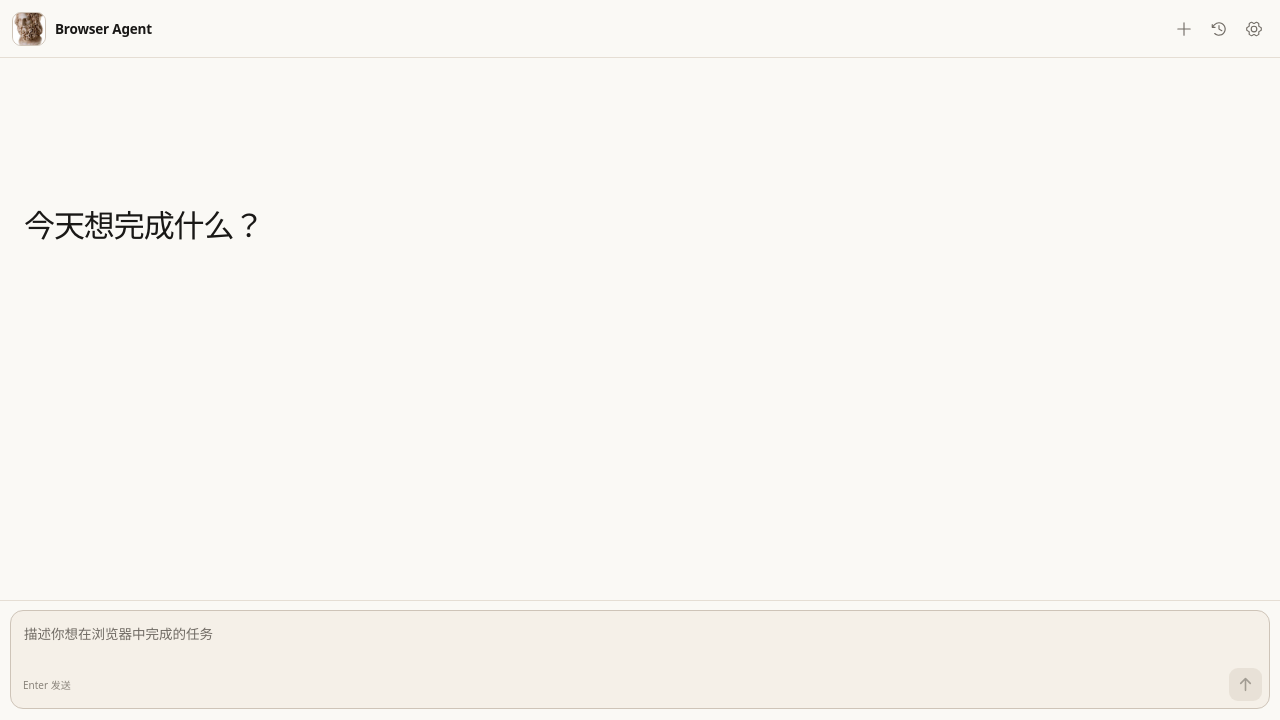
Test case: Browser Agent 侧边栏 › 当前标签页 URL 被 Chrome 隐藏时通过页面脚本读取并完成绑定
Type "总结这个页面" into the text box named "任务内容". click: (640, 638)
box: x1=11 y1=611 x2=1269 y2=665
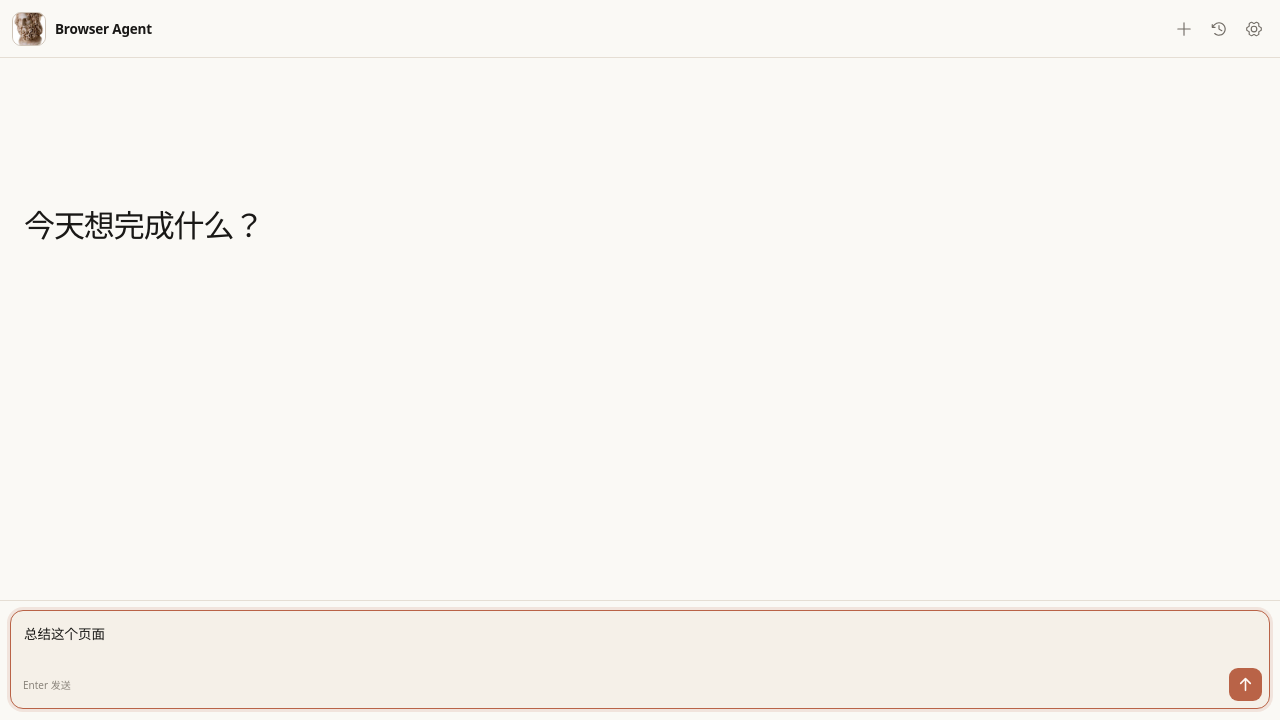
Click the button named "发送任务". click: (1246, 684)
box: x1=1229 y1=668 x2=1262 y2=701
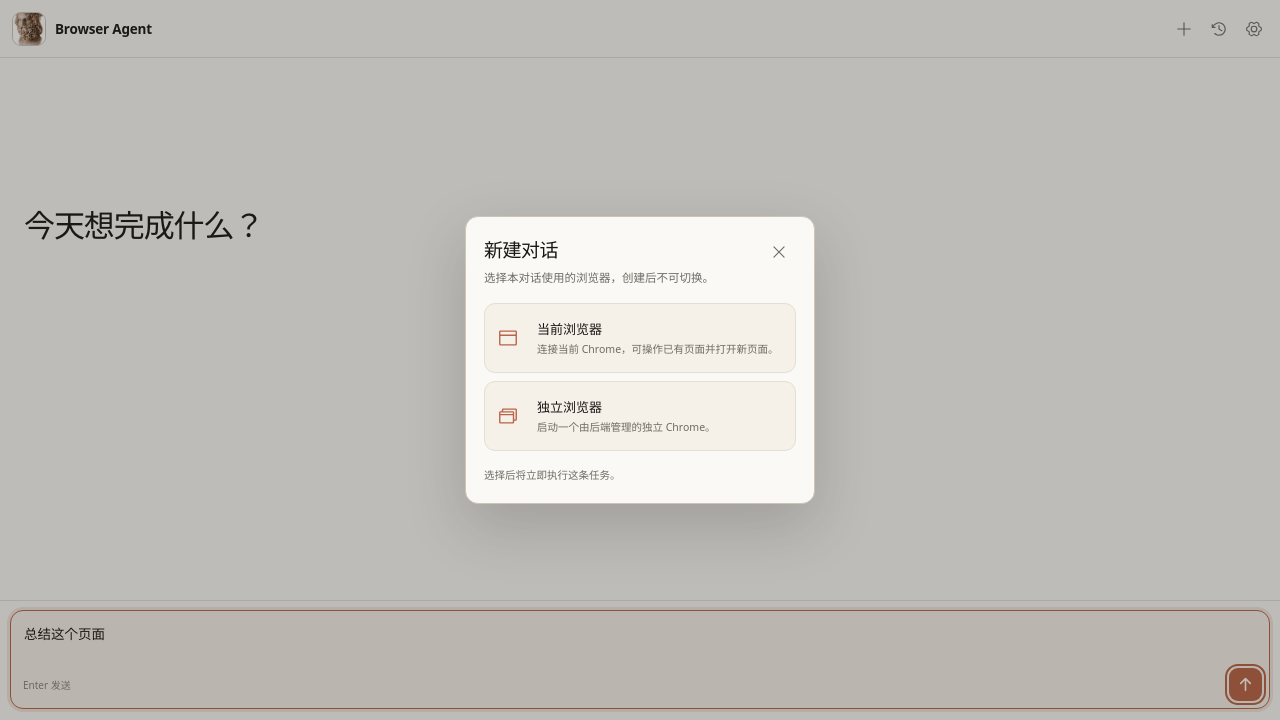
Click the button with aria-label "使用当前浏览器". click: (570, 329)
box: x1=484 y1=303 x2=796 y2=373
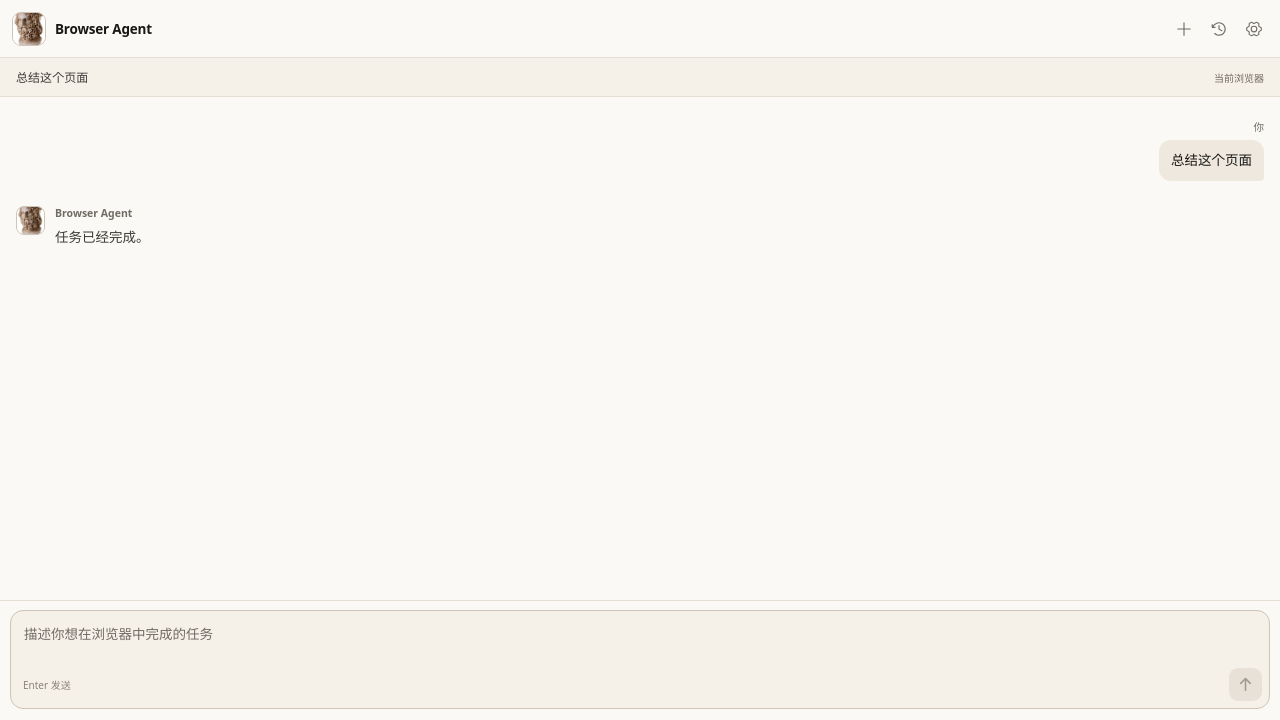
Now the text "任务已经完成。" is shown, box x1=55 y1=226 x2=150 y2=248
